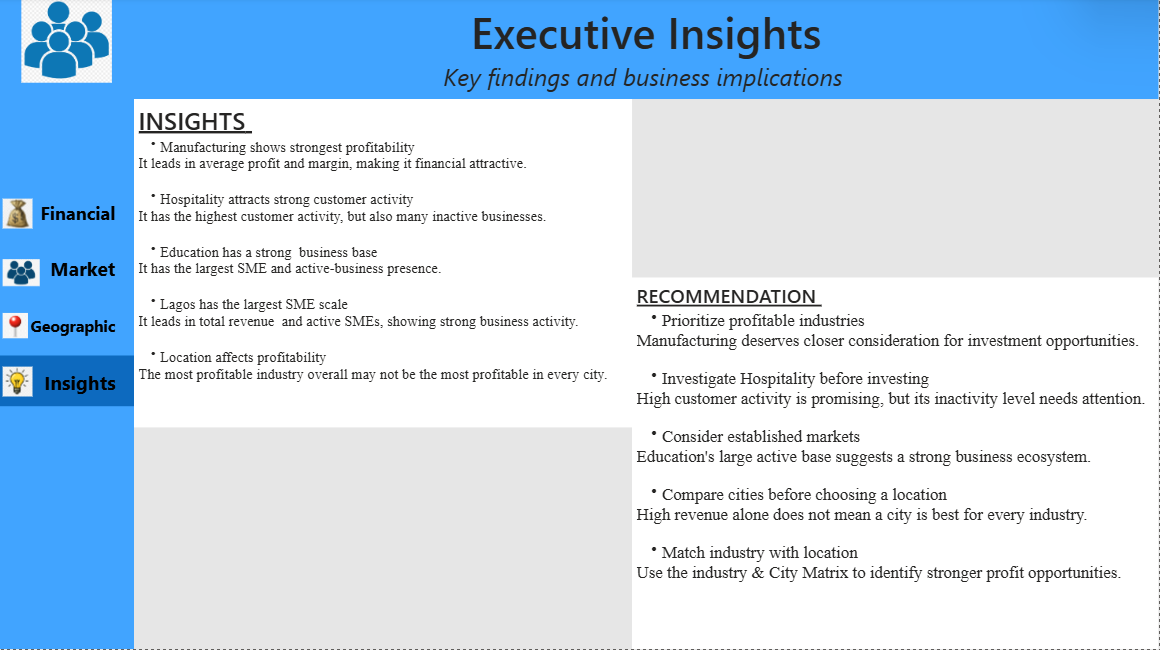

This screenshot's page, from the dashboard's own definition file:
{"tool":"powerbi","page":{"name":"Executive Insights","canvas":[1280,720],"ordinal":3},"visuals":[{"type":"shape","title":"NIGERIA SME INVESTMENT DASHBOARD","box":[0,0,149.1,720.6],"z":0},{"type":"textbox","box":[148.6,0,1131.4,112.6],"z":1000},{"type":"image","box":[0,0,149.1,94.4],"z":2000},{"type":"textbox","box":[149.1,112.6,550,362.8],"z":3000},{"type":"textbox","box":[699,309.8,581.4,410.8],"z":4000},{"type":"actionButton","box":[0.6,218.7,132.5,39.8],"z":5000},{"type":"actionButton","box":[0.6,280.6,132.5,39.8],"z":6000},{"type":"actionButton","box":[0.6,342.5,132.5,39.8],"z":7000},{"type":"shape","box":[0,395.9,149.1,56.3],"z":7500},{"type":"actionButton","box":[0.3,404.4,132.9,40.4],"z":8000}]}

Visuals, with their boxes in screenshot pixels (x1, y1, x2, y2), scaled from the page's 1280x720 canvas onto the 1160x650 screenshot:
"NIGERIA SME INVESTMENT DASHBOARD" shape: [left=0, top=0, right=135, bottom=649]
textbox: [left=135, top=0, right=1159, bottom=102]
image: [left=0, top=0, right=135, bottom=85]
textbox: [left=135, top=102, right=634, bottom=429]
textbox: [left=633, top=280, right=1159, bottom=649]
actionButton: [left=1, top=197, right=121, bottom=233]
actionButton: [left=1, top=253, right=121, bottom=289]
actionButton: [left=1, top=309, right=121, bottom=345]
shape: [left=0, top=357, right=135, bottom=408]
actionButton: [left=0, top=365, right=121, bottom=402]
